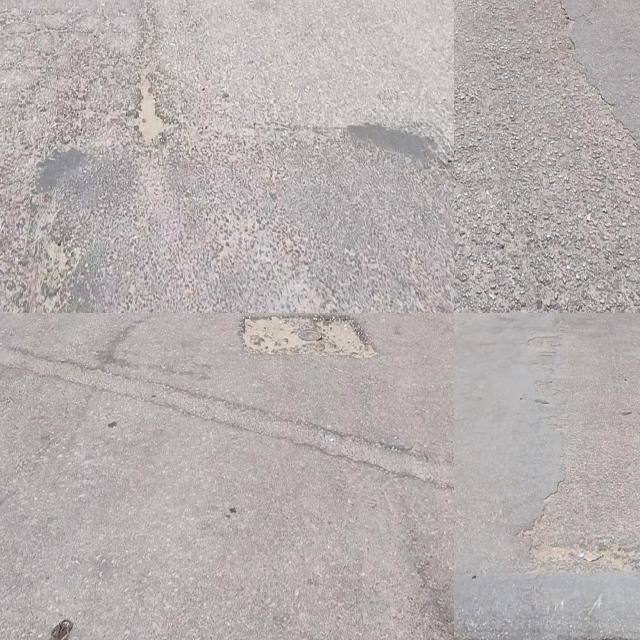Pothole: (240, 315, 370, 358)
